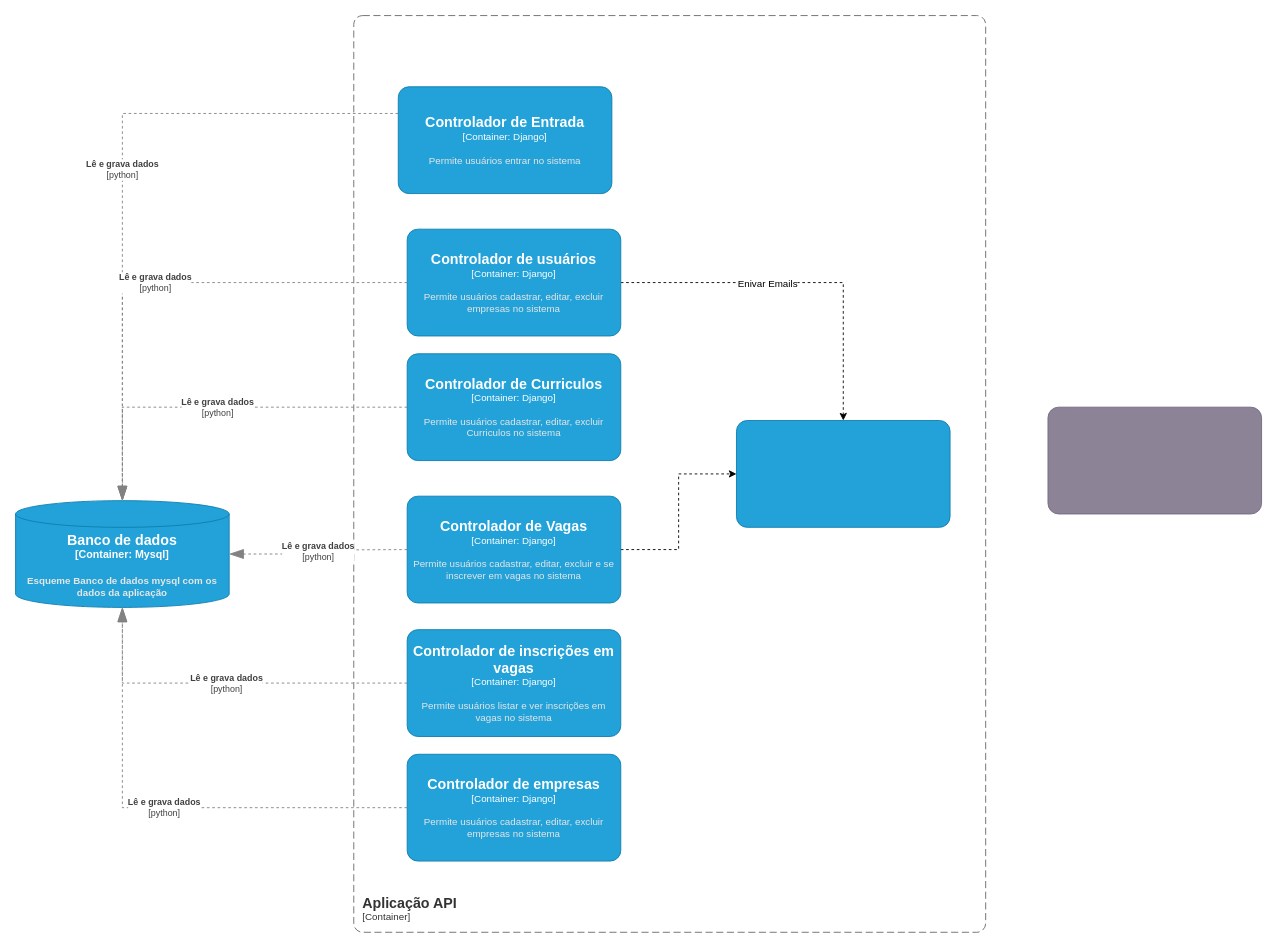
Image size: 1277x948. Some labels were removed from this diagram. The centre of each missing label's shape, as x and y in pixels:
Container de emails [Container: Django] Enviar emails: the point at 843,473
Sistema de emails [Software System] Servidor SMTP: the point at 1154,460
